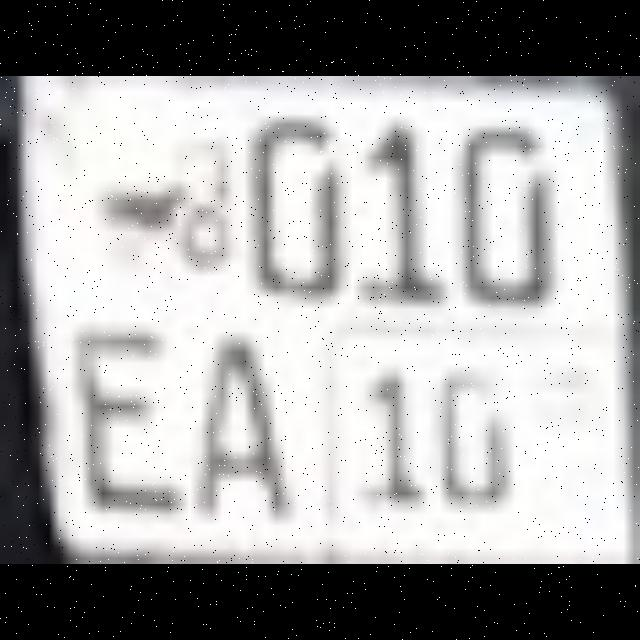0: (238, 108, 326, 282), (456, 119, 542, 293), (434, 358, 498, 499)
1: (348, 109, 434, 293), (348, 358, 412, 488)
A: (195, 325, 271, 499)
E: (65, 315, 163, 499)
